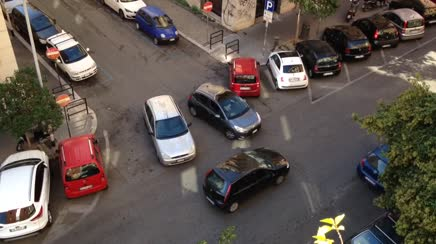car: (202, 146, 291, 214), (1, 149, 54, 242), (185, 83, 262, 142), (140, 93, 198, 168), (55, 133, 109, 200), (46, 31, 99, 83), (321, 22, 373, 64), (294, 38, 342, 81), (265, 48, 309, 93), (133, 6, 179, 47), (226, 56, 263, 98)
